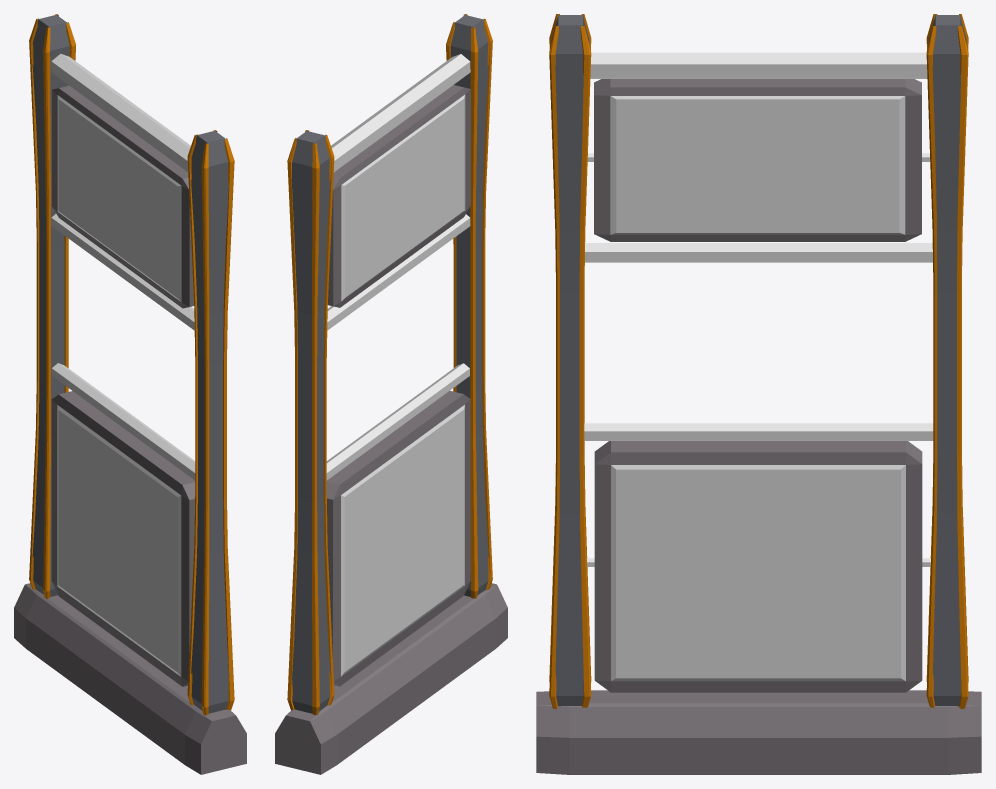
Rendered from wall3.fbx.
The picture shows the model from 3 angles, left to right: view 1: azimuth 30°, elevation 25°; view 2: azimuth 150°, elevation 25°; view 3: azimuth 270°, elevation 25°; orthographic projection. The views are drawn at different scales.
Visible parts, largest first — view 1: Cylinder.003; view 2: Cylinder.003; view 3: Cylinder.003.
Part boxes in pixels (x1=…): Cylinder.003: x1=14, y1=14, x2=246, y2=774; Cylinder.003: x1=275, y1=14, x2=507, y2=774; Cylinder.003: x1=536, y1=14, x2=981, y2=774.
Size of the model in its own units: 80.85 by 964 by 524.
